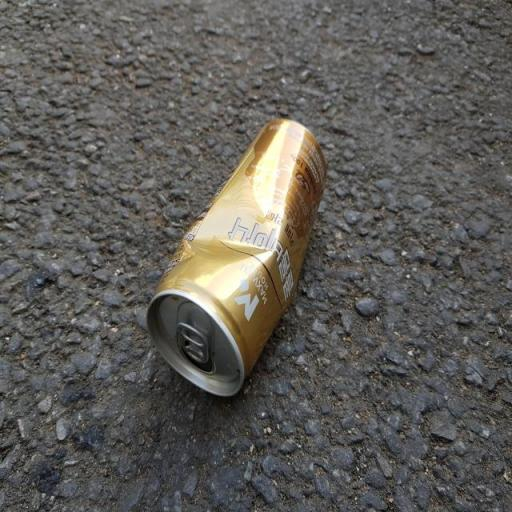metal: (130, 74, 338, 448)
